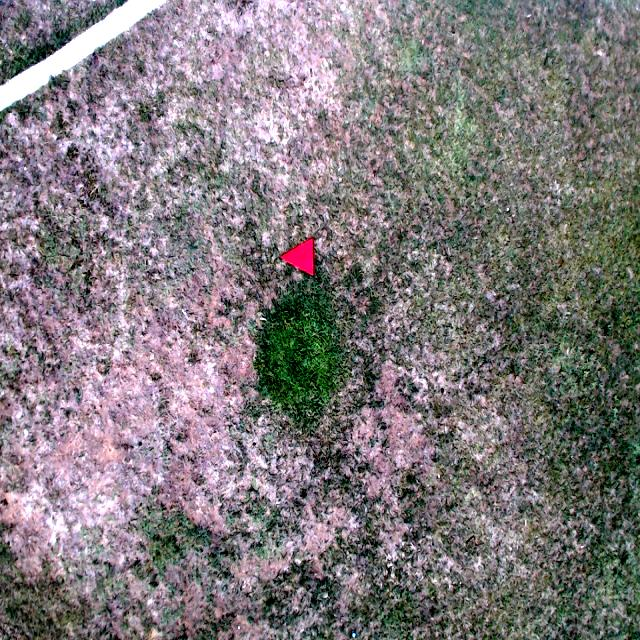red_triangle: (279, 236, 313, 276)
